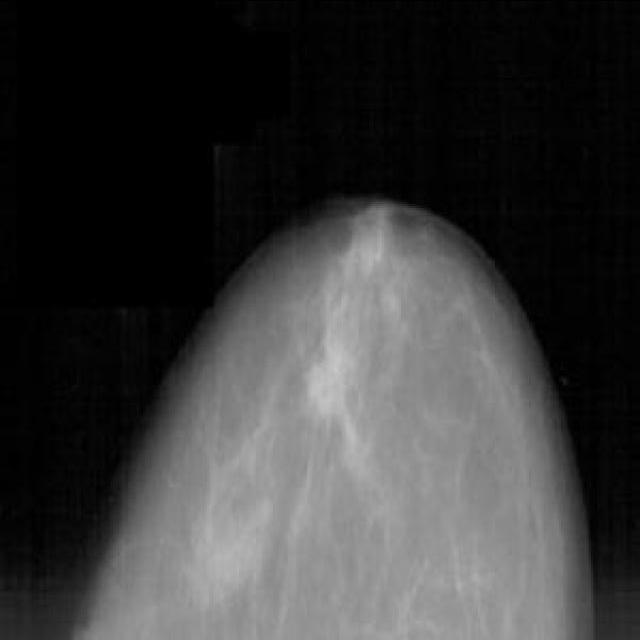tumor: (288, 202, 420, 438)
